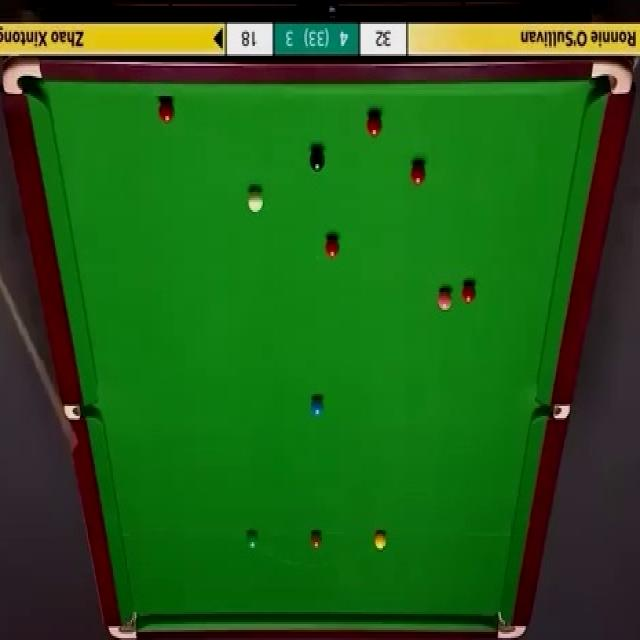pocket: (1, 58, 46, 97), (591, 58, 634, 97), (495, 606, 528, 640), (110, 608, 141, 640), (65, 402, 101, 422), (535, 405, 573, 420)
